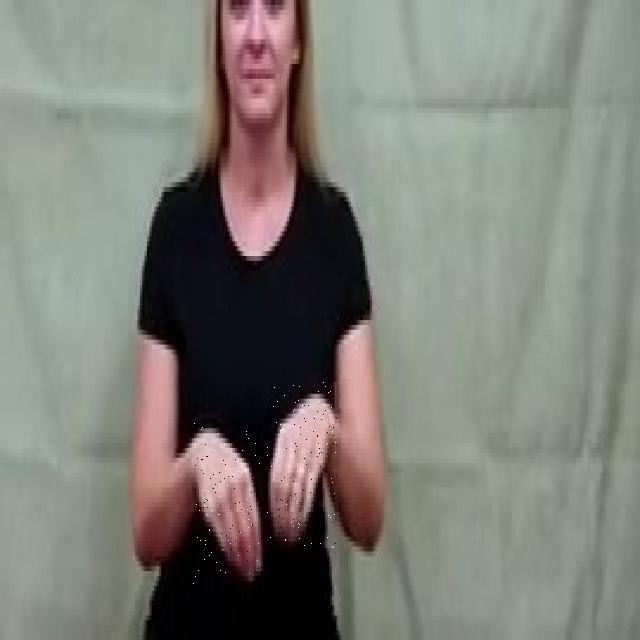ingredients: (268, 382, 338, 548), (192, 420, 260, 584)
